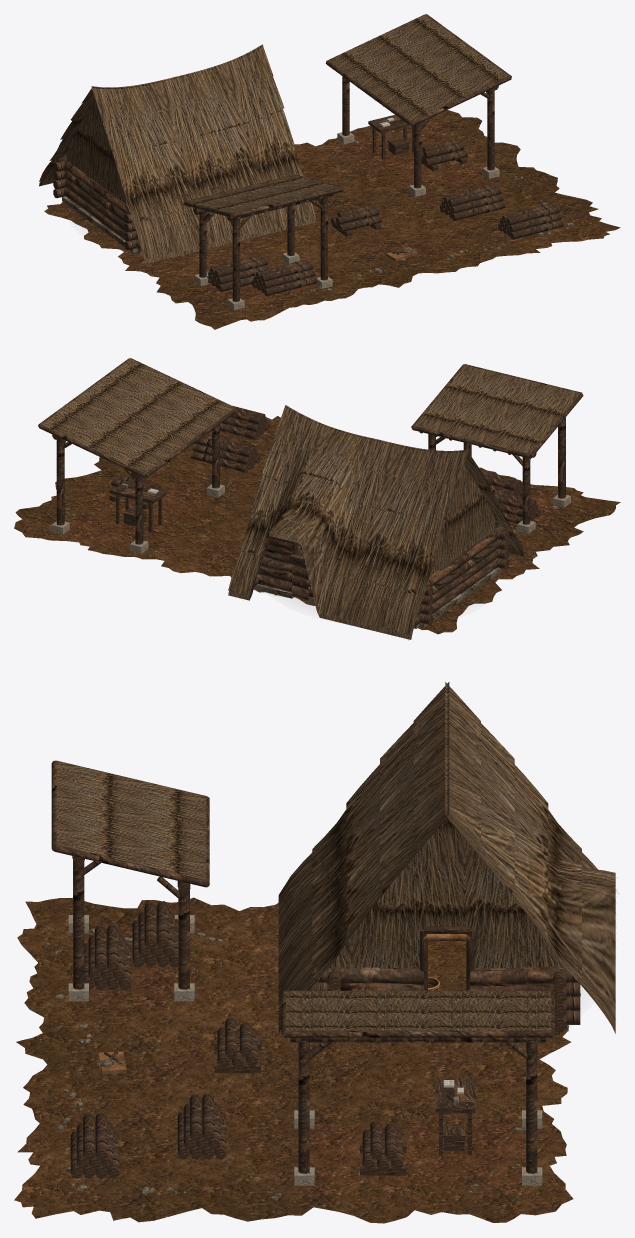
File: lumber.glb
3 views of the same model, one above another, from view 1: azimuth 30°, elevation 25°; view 2: azimuth 150°, elevation 25°; view 3: azimuth 270°, elevation 25° (orthographic). The views are drawn at different scales.
Visible parts, largest first — view 1: part_11, part_1, part_4, part_9, part_10, part_5; view 2: part_11, part_1, part_4, part_9, part_5, part_10; view 3: part_1, part_11, part_4, part_9, part_10, part_0, part_2, part_7.
Boxes of the visible parts, left/top/right/bottom form: part_11: left=39, top=14, right=509, bottom=263; part_1: left=44, top=110, right=620, bottom=329; part_4: left=53, top=14, right=564, bottom=301; part_9: left=204, top=125, right=486, bottom=306; part_10: left=194, top=123, right=499, bottom=310; part_5: left=62, top=196, right=413, bottom=253; part_11: left=41, top=358, right=579, bottom=639; part_1: left=14, top=416, right=620, bottom=634; part_4: left=38, top=358, right=583, bottom=626; part_9: left=65, top=477, right=560, bottom=549; part_5: left=121, top=483, right=500, bottom=628; part_10: left=51, top=474, right=570, bottom=553; part_1: left=14, top=897, right=573, bottom=1223; part_11: left=56, top=682, right=615, bottom=1033; part_4: left=51, top=760, right=580, bottom=1178; part_9: left=84, top=929, right=525, bottom=1185; part_10: left=68, top=915, right=542, bottom=1185; part_0: left=428, top=941, right=466, bottom=990; part_2: left=46, top=928, right=525, bottom=1199; part_7: left=98, top=934, right=470, bottom=1074.
Size of the model in its own units: 9.26 by 3.03 by 7.16.
Materials: 16 (12 with a texture image).
